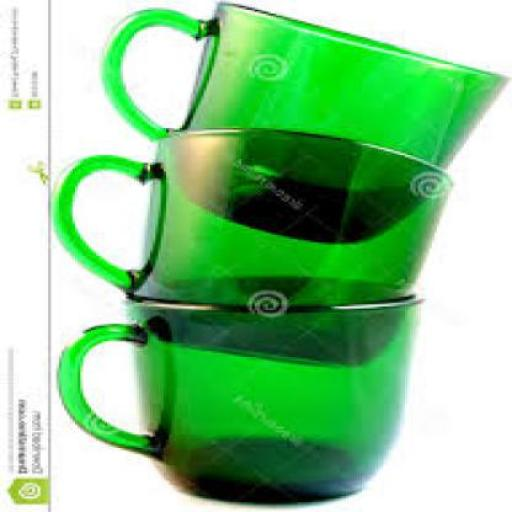glass: (110, 1, 512, 244), (56, 128, 456, 367), (59, 273, 426, 505)
